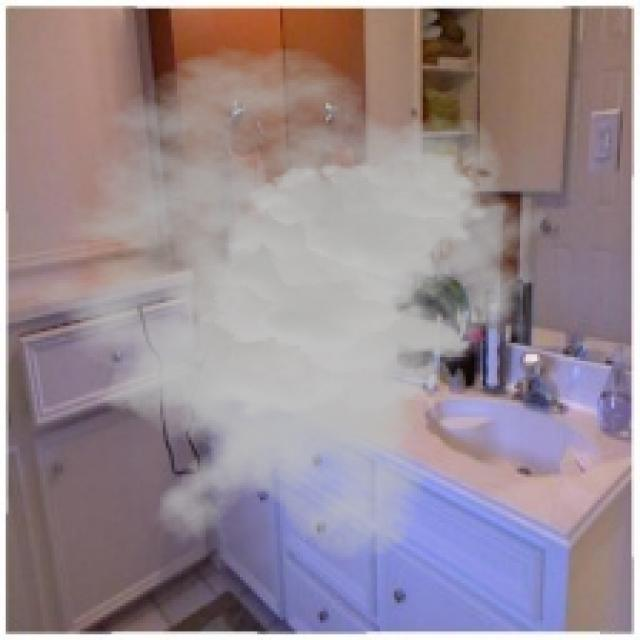smoke: (9, 46, 548, 563)
